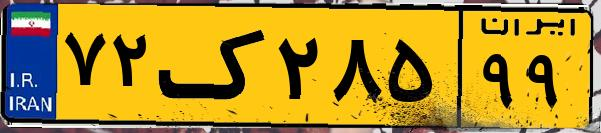2: (270, 28, 330, 110), (110, 28, 158, 98)
5: (385, 28, 445, 110)
7: (57, 26, 110, 100)
8: (330, 28, 385, 110)
9: (475, 38, 525, 113), (525, 38, 570, 115)
ک: (158, 12, 270, 120)
